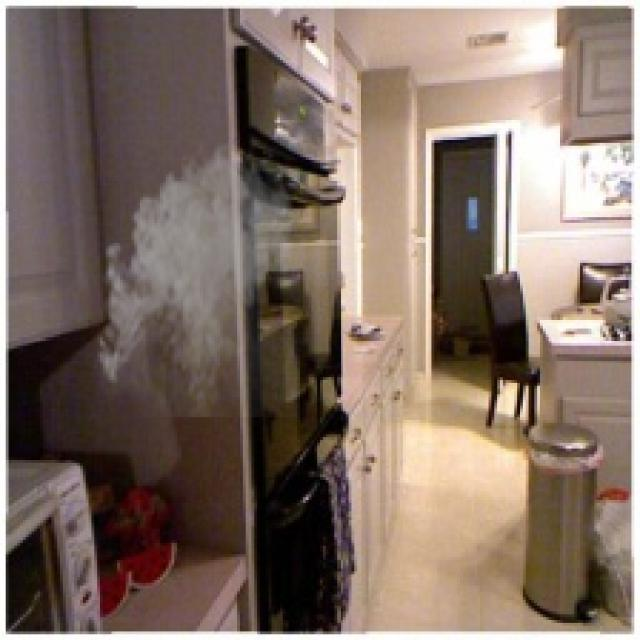smoke: (91, 134, 300, 417)
